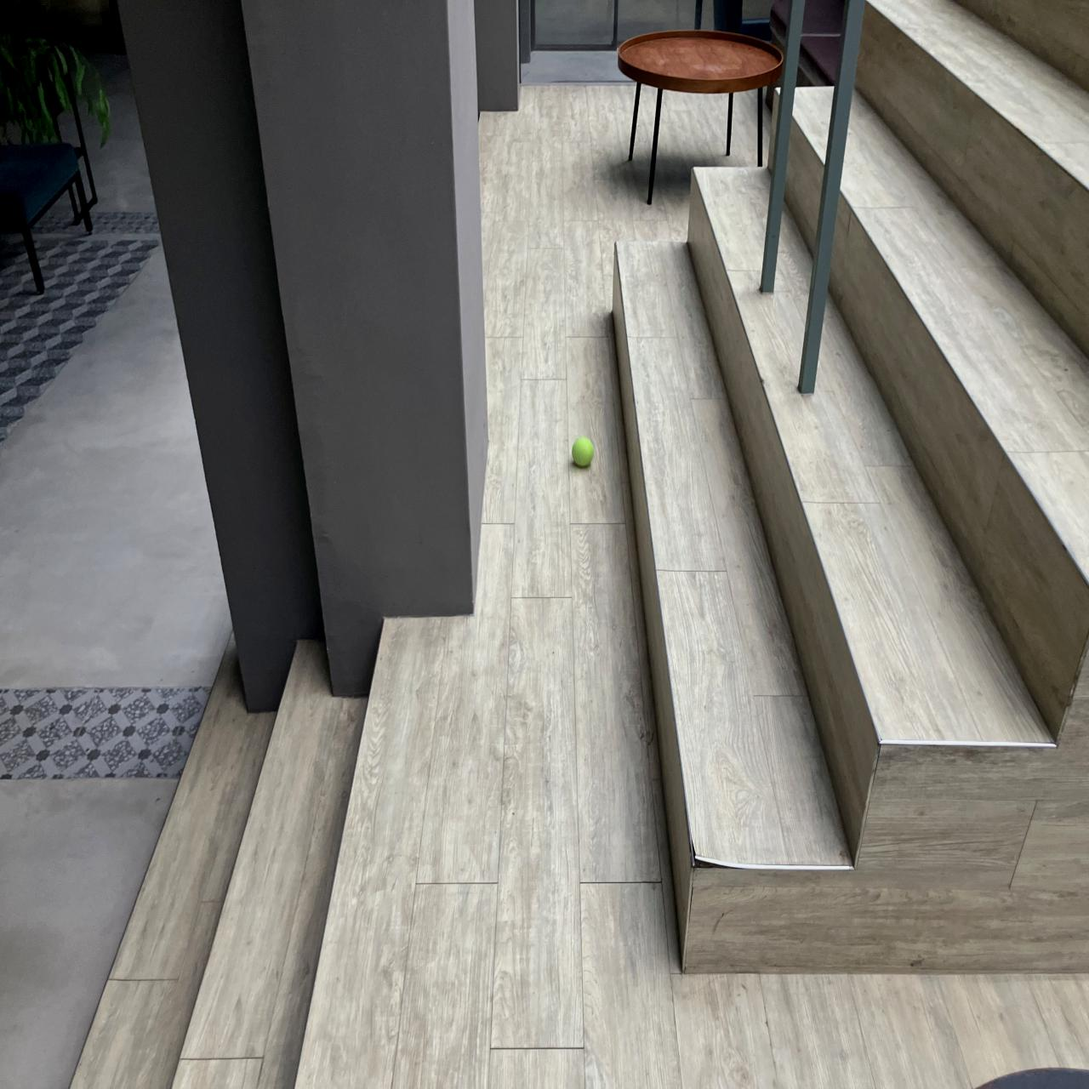tennisball: (573, 437, 594, 467)
